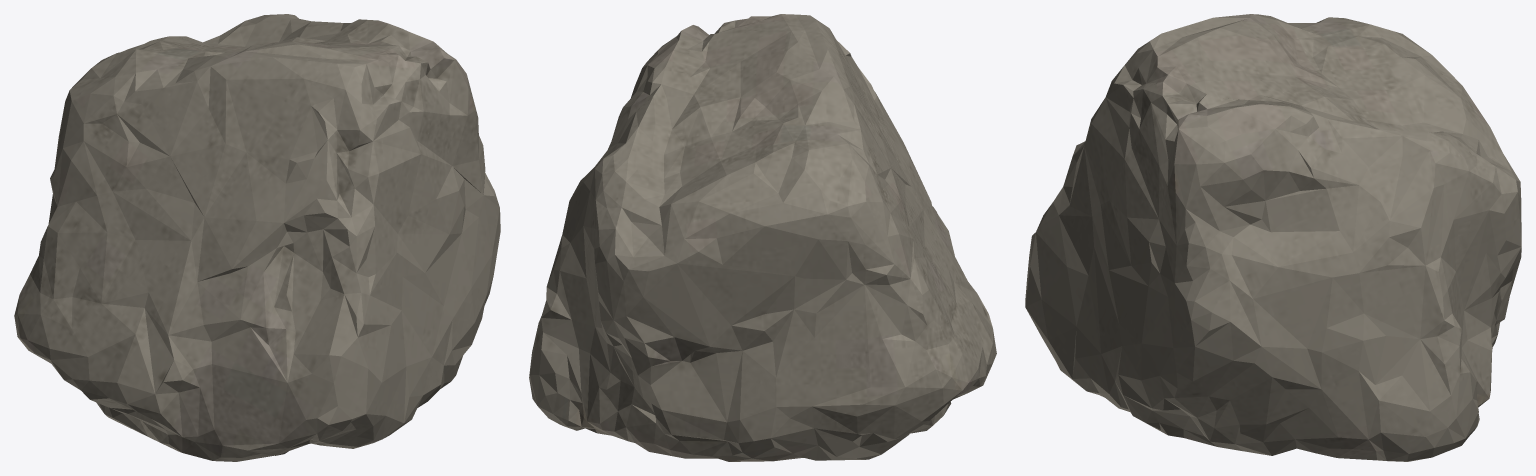
The model's file is moon_rock_02.glb.
3 views of the same model, side by side, from view 1: azimuth 30°, elevation 25°; view 2: azimuth 150°, elevation 25°; view 3: azimuth 270°, elevation 25° (orthographic). The views are drawn at different scales.
Parts seen in each view (by area): view 1: moon_rock_02_LOD0; view 2: moon_rock_02_LOD0; view 3: moon_rock_02_LOD0.
Boxes of the visible parts, <box> form: moon_rock_02_LOD0: <box>14,14,500,461</box>; moon_rock_02_LOD0: <box>529,14,996,461</box>; moon_rock_02_LOD0: <box>1025,14,1521,461</box>.
Size of the model in its own units: 0.2465 by 0.2019 by 0.2513.
1 material, 1 textured.
